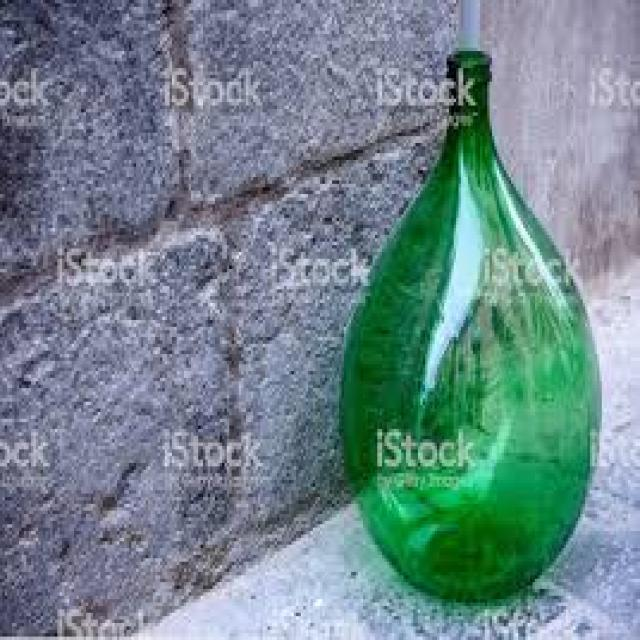glass: (342, 48, 600, 599)
